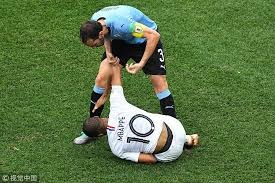falling: (70, 55, 207, 166)
